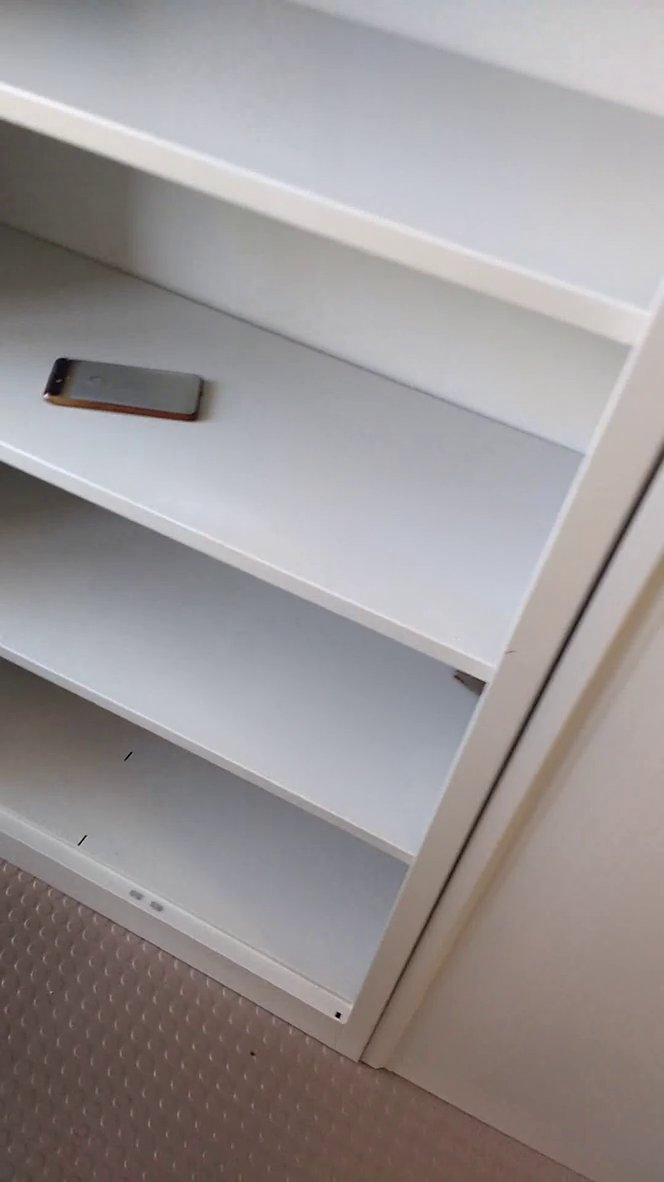phone: (31, 348, 216, 433)
